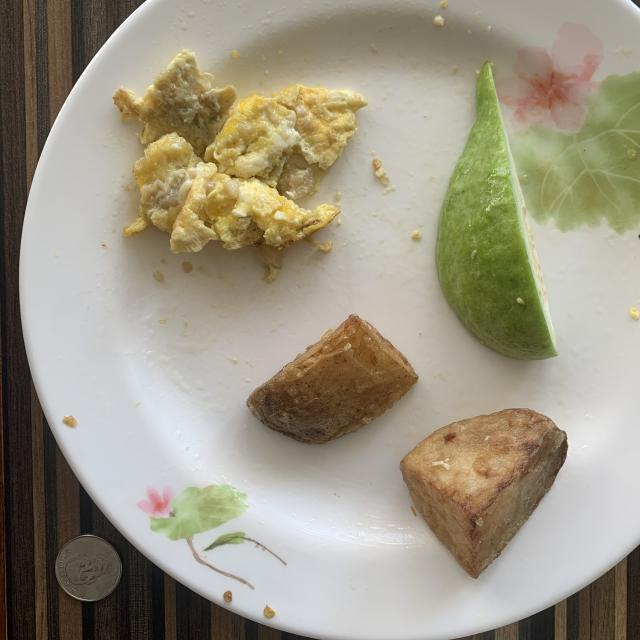coin: (55, 535, 121, 601)
fried potato: (400, 409, 568, 579), (246, 314, 418, 444)
guava -sliced-: (436, 61, 558, 360)
